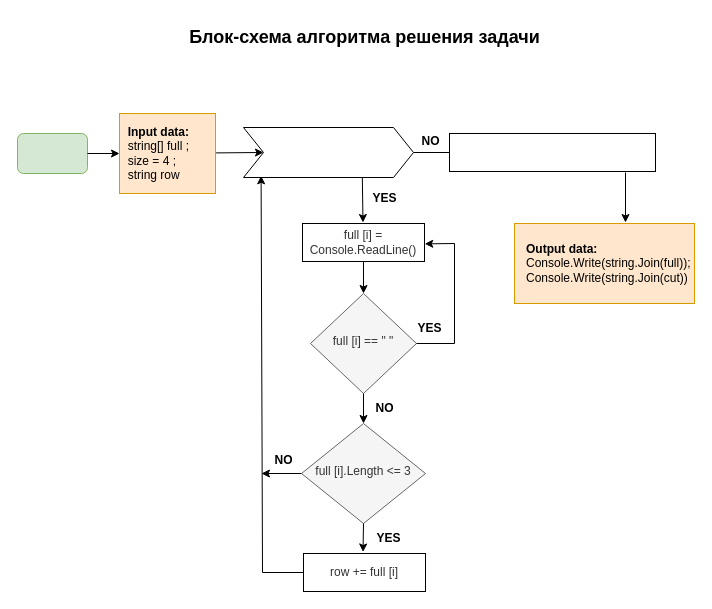
Some shapes in this 712 by 609 pixel diagram are drawn without their labels. The box of each missing label's shape, as (x1, y1, x2, y2) in pixels:
i = 0; i < size; i++: (242, 126, 414, 178)
Start: (16, 132, 88, 174)
string[] cut = row.Split( new char[] ): (448, 132, 656, 172)
